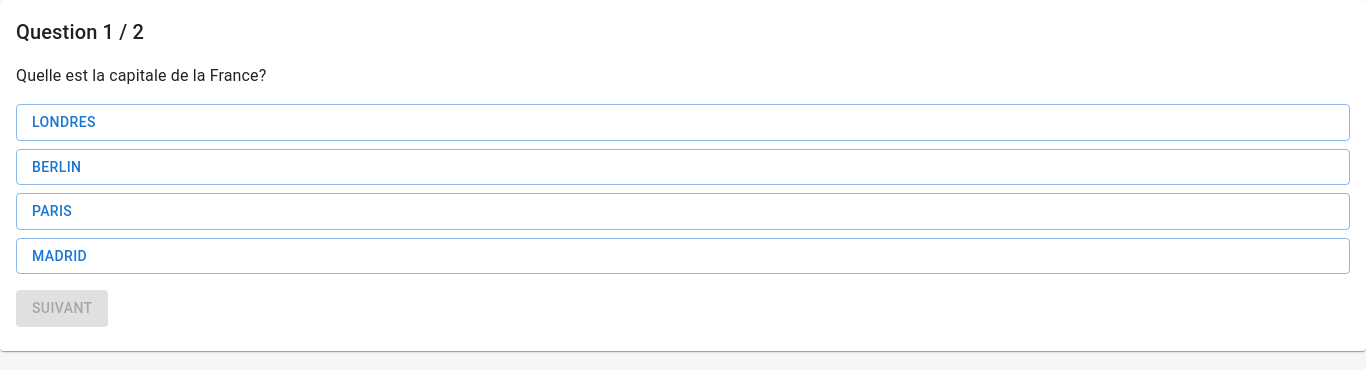
Test: Quiz Component › allows selecting an answer and navigating to the next question
# Sélectionner une réponse
Click the button "Paris" at [52, 211], box top-left (16, 193), bottom-right (1350, 230)
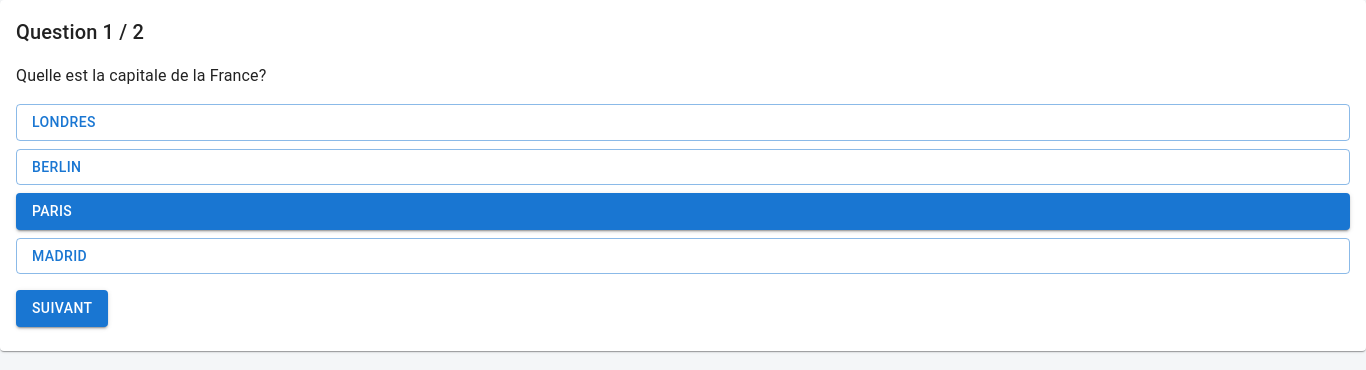
# Passer à la question suivante
Click the button "Suivant" at [62, 308], box top-left (16, 290), bottom-right (108, 326)
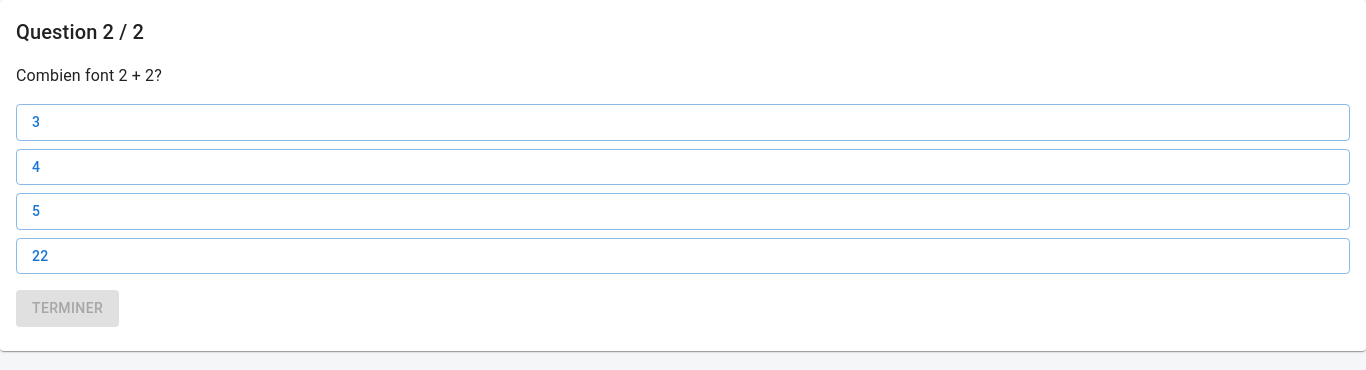
Expected: the heading "Question 2 / 2" is shown, top-left (16, 20), bottom-right (144, 44)
Expected: the text "Combien font 2 + 2?" is shown, top-left (16, 66), bottom-right (162, 85)
